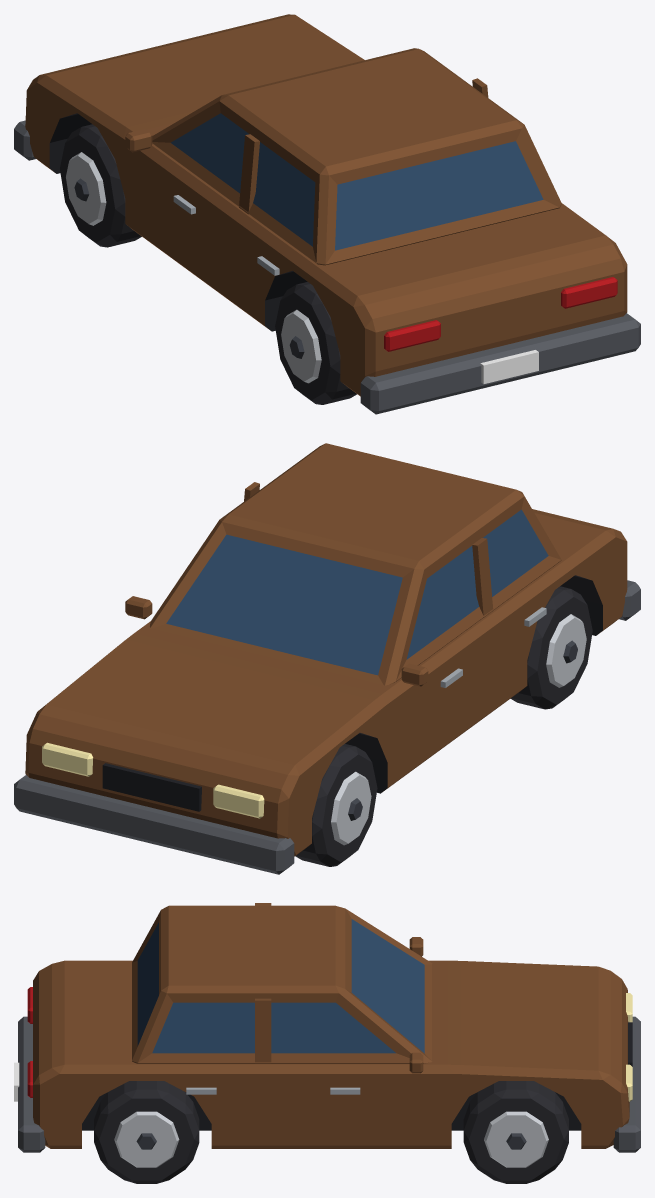
Rendered from Car_Red.glb.
3 renders of one model, top to bottom at view 1: azimuth 30°, elevation 25°; view 2: azimuth 150°, elevation 25°; view 3: azimuth 270°, elevation 25°, orthographic. The views are drawn at different scales.
Visible parts, largest first — view 1: Car_Red_Body, Car_Red_Wheel_FL, Car_Red_Wheel_RL; view 2: Car_Red_Body, Car_Red_Wheel_FL, Car_Red_Wheel_RL; view 3: Car_Red_Body, Car_Red_Wheel_FR, Car_Red_Wheel_RR.
Part boxes in pixels (bbox=[...]): Car_Red_Body: bbox=[14, 14, 640, 414]; Car_Red_Wheel_FL: bbox=[60, 124, 141, 247]; Car_Red_Wheel_RL: bbox=[275, 282, 356, 404]; Car_Red_Body: bbox=[14, 443, 640, 874]; Car_Red_Wheel_FL: bbox=[295, 744, 377, 866]; Car_Red_Wheel_RL: bbox=[510, 586, 592, 709]; Car_Red_Body: bbox=[14, 903, 640, 1152]; Car_Red_Wheel_FR: bbox=[463, 1081, 568, 1183]; Car_Red_Wheel_RR: bbox=[94, 1081, 199, 1183].
Size of the model in its own units: 2.16 by 1.5 by 4.58.
Materials: 1 (1 with a texture image).
